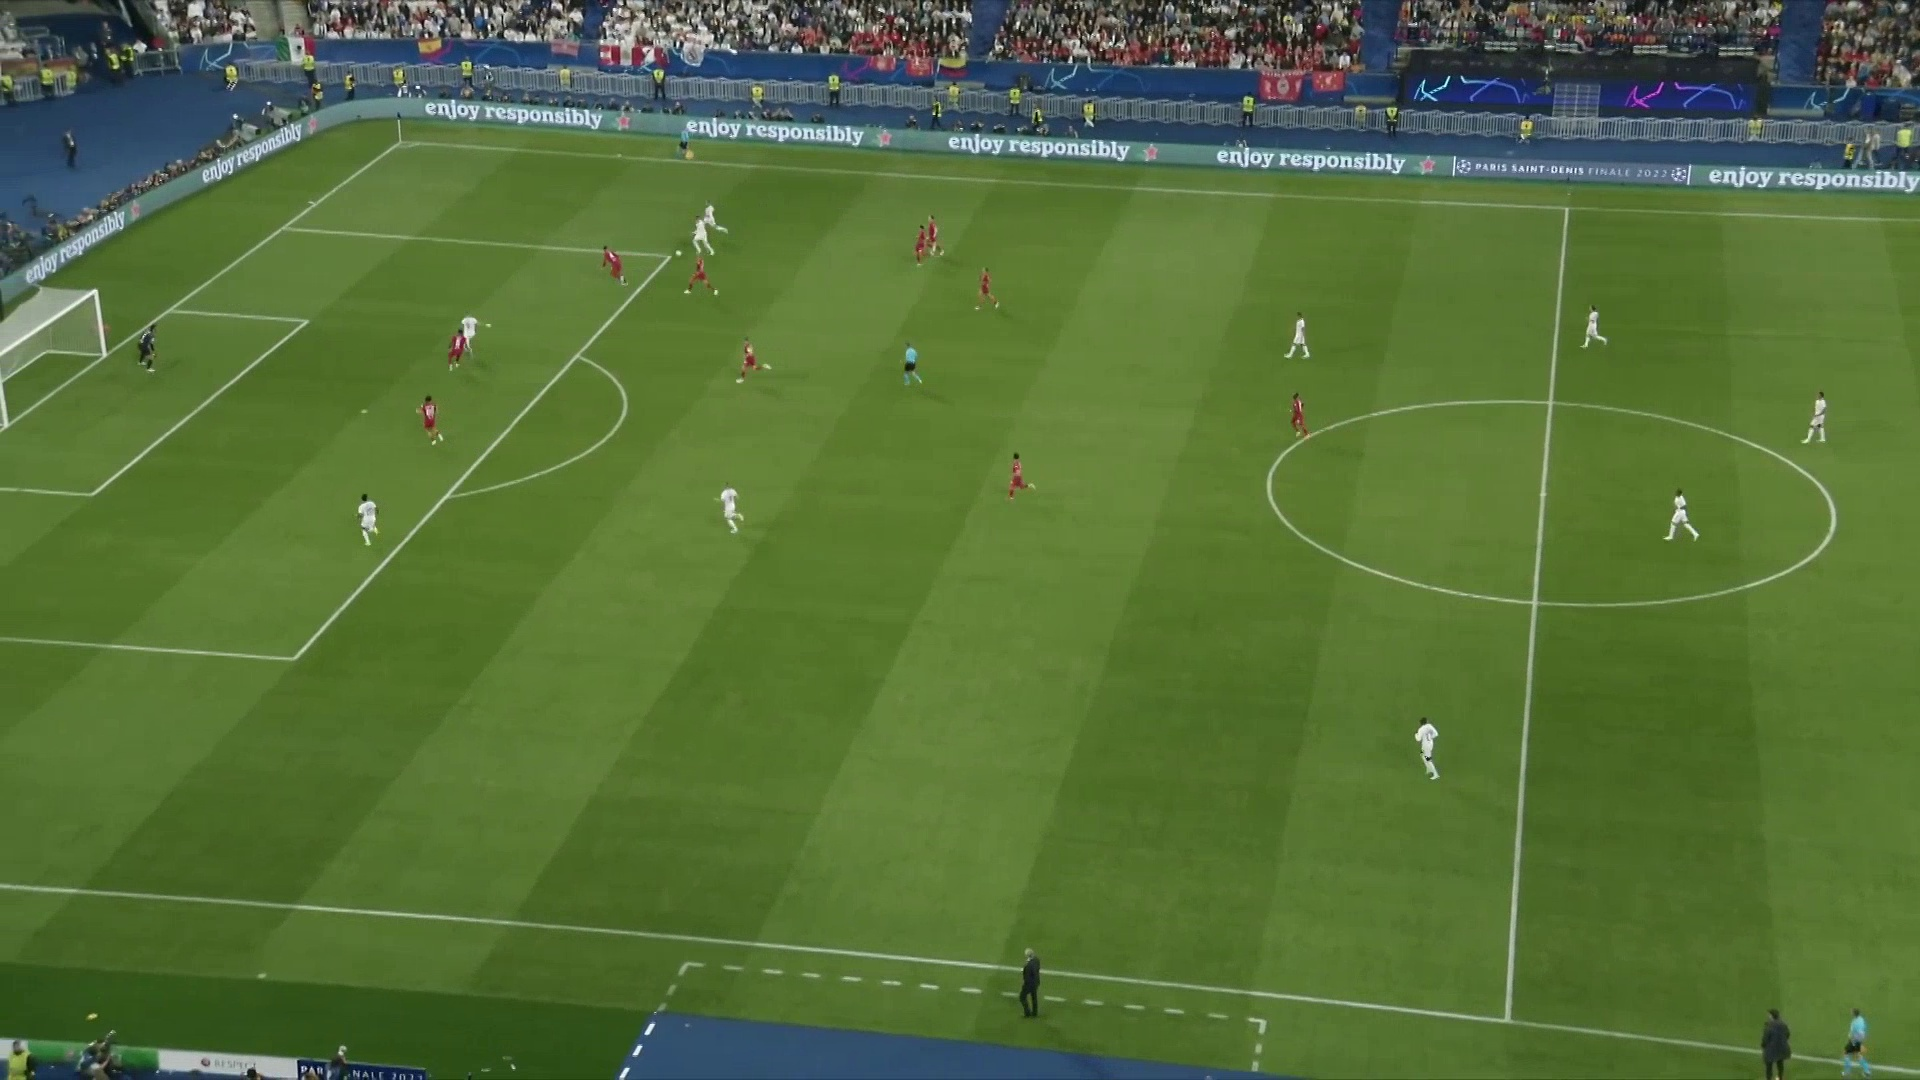ball: (670, 243, 683, 259)
player 1: (698, 194, 730, 235)
player 10: (1655, 485, 1709, 552)
player 11: (1390, 700, 1454, 793)
player 12: (136, 321, 170, 379)
player 13: (593, 237, 638, 289)
player 14: (414, 392, 459, 459)
player 15: (685, 265, 728, 302)
player 16: (440, 332, 474, 369)
player 17: (720, 317, 780, 388)
player 18: (911, 216, 927, 271)
player 19: (972, 261, 1002, 317)
player 2: (685, 220, 722, 252)
player 20: (929, 209, 944, 261)
player 21: (1284, 386, 1327, 452)
player 22: (998, 444, 1043, 509)
player 3: (330, 487, 396, 556)
player 4: (459, 304, 493, 347)
player 5: (703, 476, 754, 537)
player 7: (1284, 304, 1325, 360)
player 8: (1579, 289, 1616, 356)
player 9: (1795, 381, 1847, 448)
reffree: (894, 334, 935, 396)
